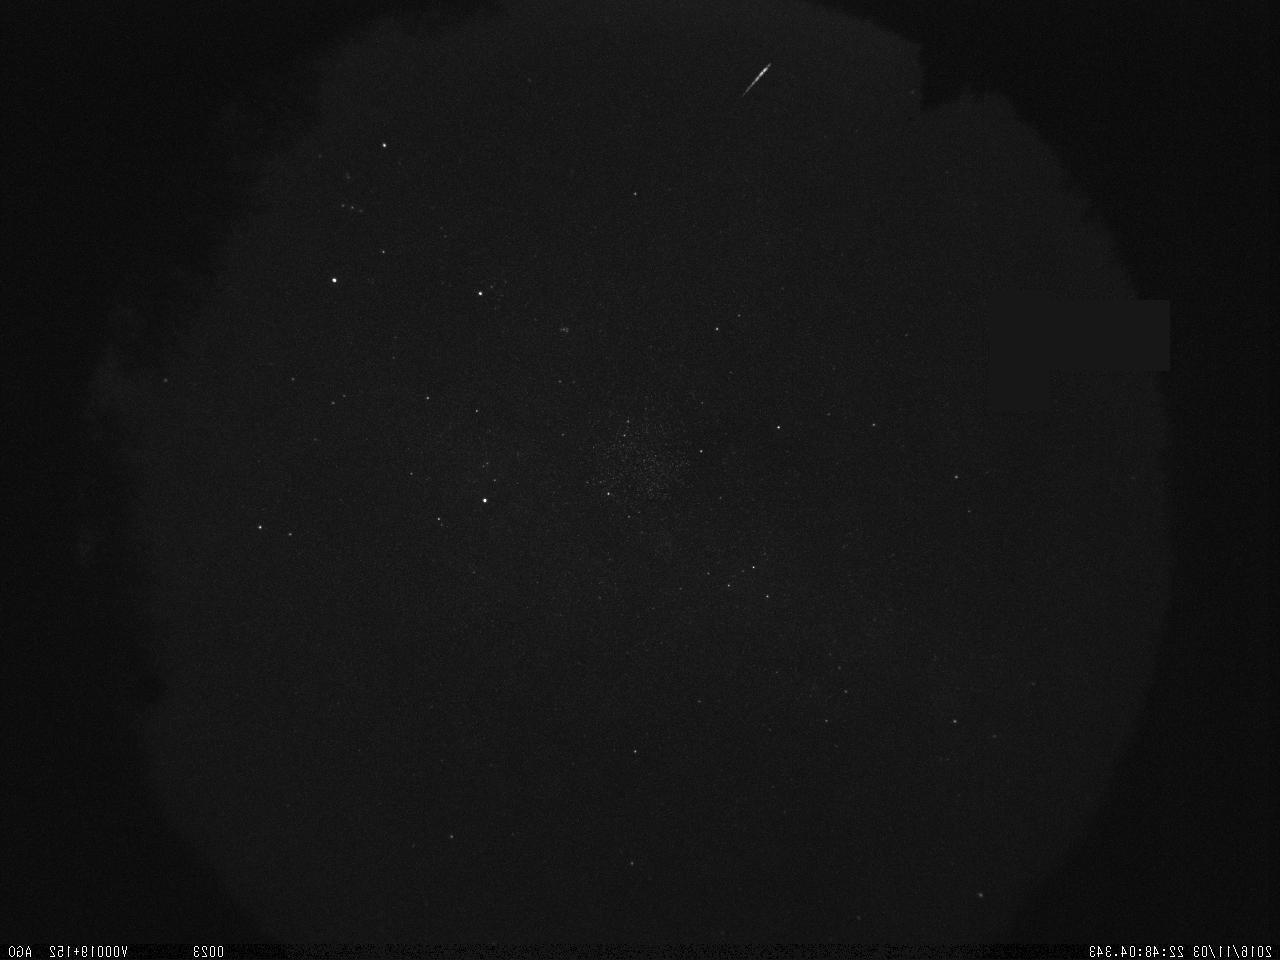meteor: (733, 50, 784, 103)
